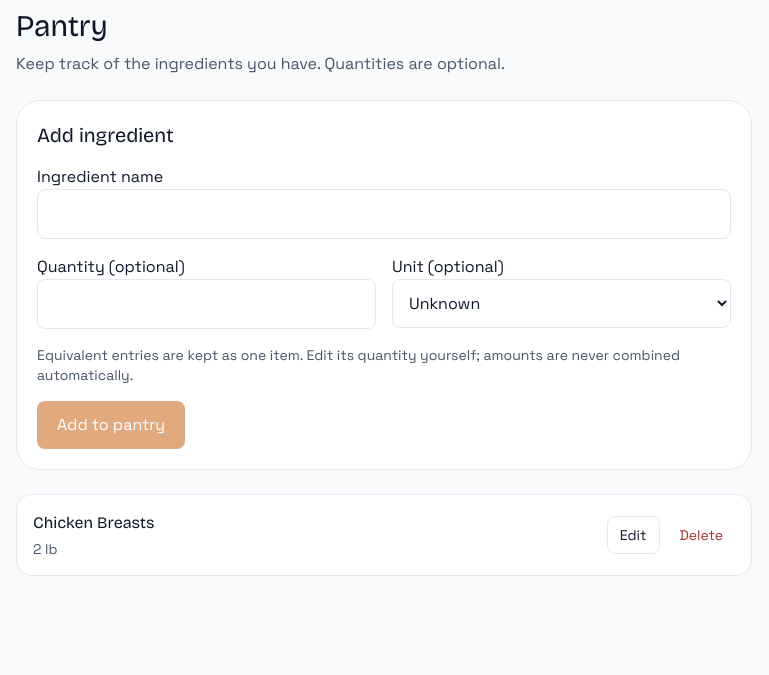
Test: failed delete preserves item and exposes recovery
What coordinates should you click on to do the following:
click the button with aria-label "Delete Chicken Breasts"
I would click on:
 (701, 535)
Its box is [668,516,735,554].
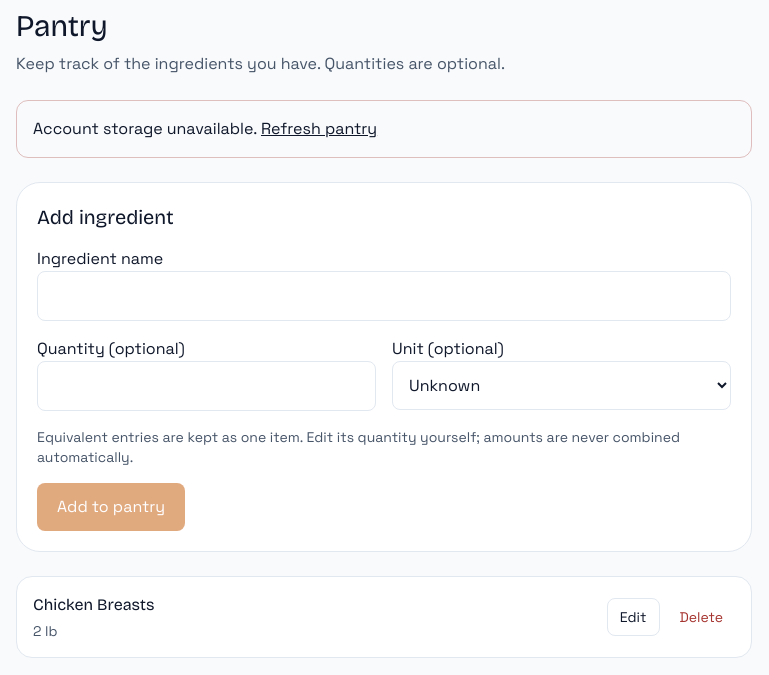
Expected: the heading "Chicken Breasts" is shown, [33,595,154,614]
Expected: the message shows "Account storage unavailable", [33,118,257,139]
